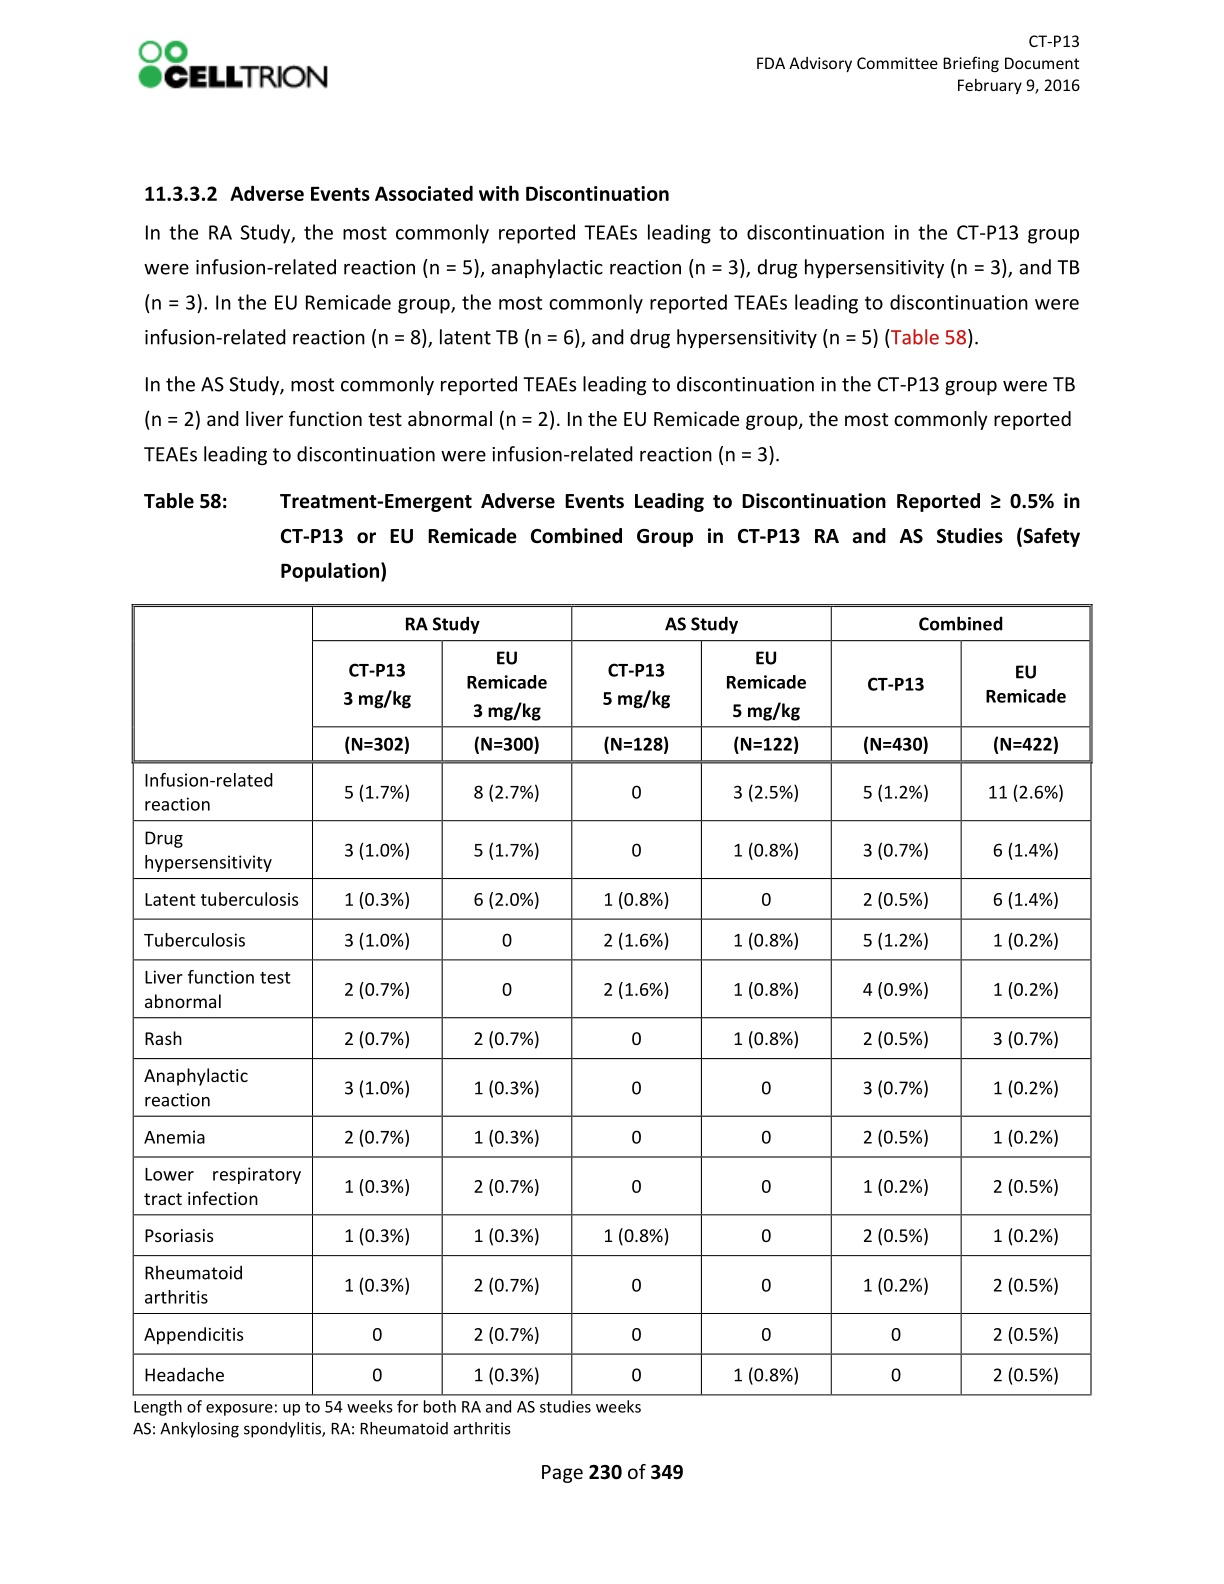merged_cells: (129, 600, 1093, 1398)
